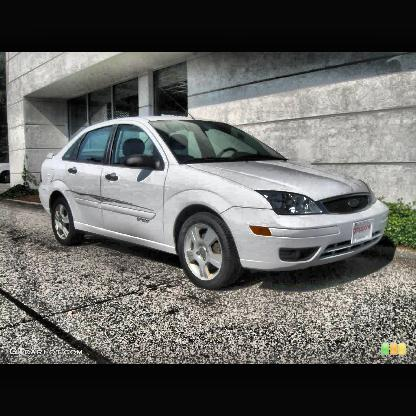Ford Focus Sedan 2007: (40, 110, 388, 290)
